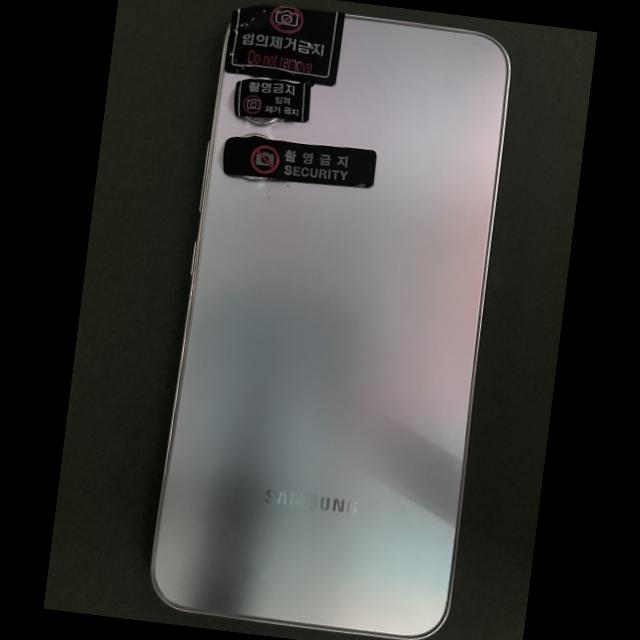lens: (242, 134, 270, 141), (247, 117, 275, 123)
phone: (149, 5, 511, 639)
sticker: (224, 4, 344, 85), (223, 136, 376, 187), (233, 80, 310, 122)
